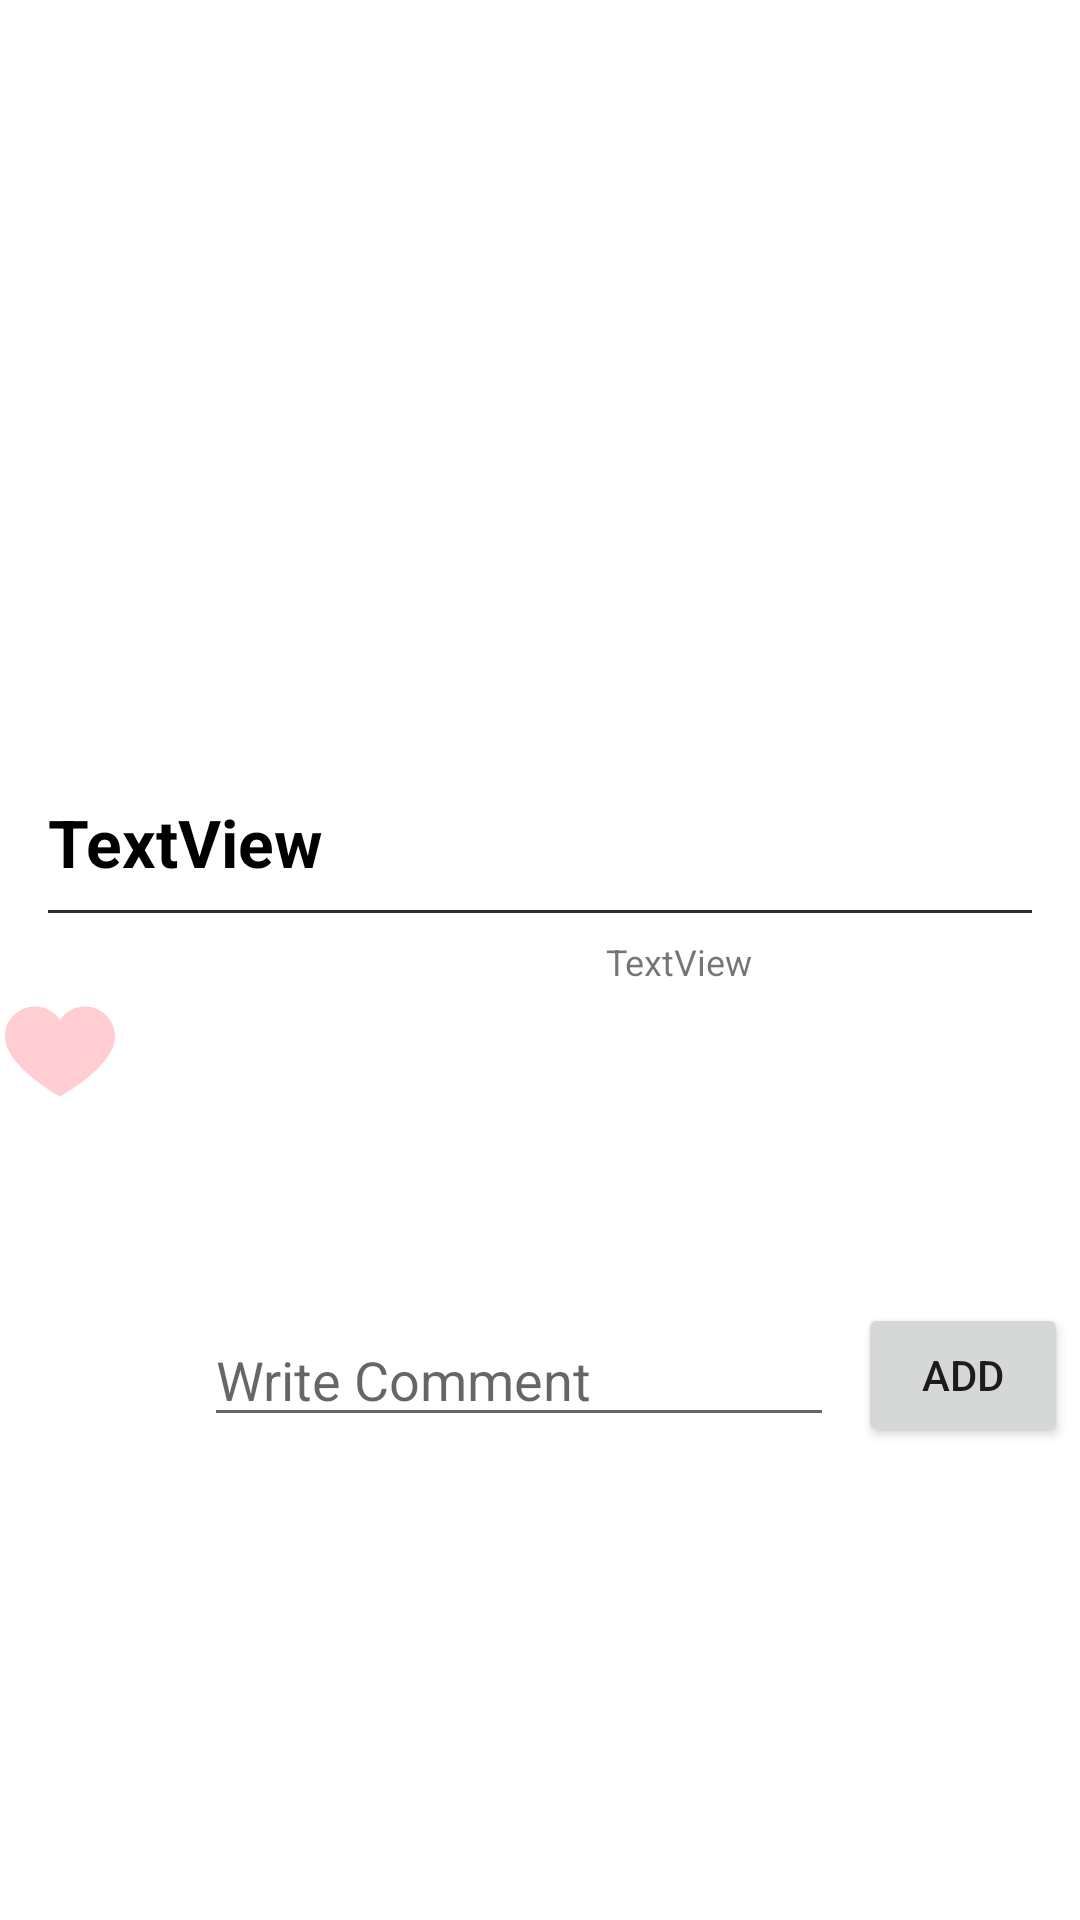

Icons on this 1080x1920 Android screen, each with its box as (x1, y1, x2, y2):
beforelike: (5, 1007, 115, 1096)
